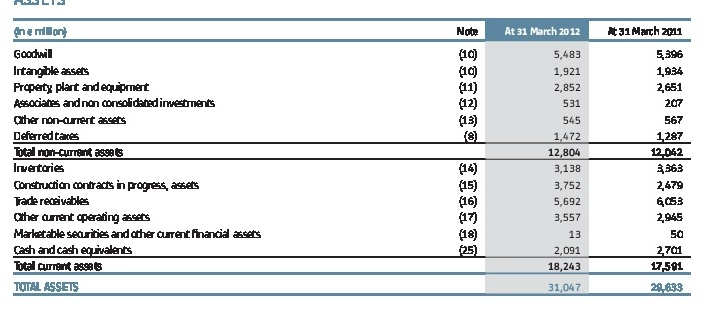table: (0, 0, 709, 309)
